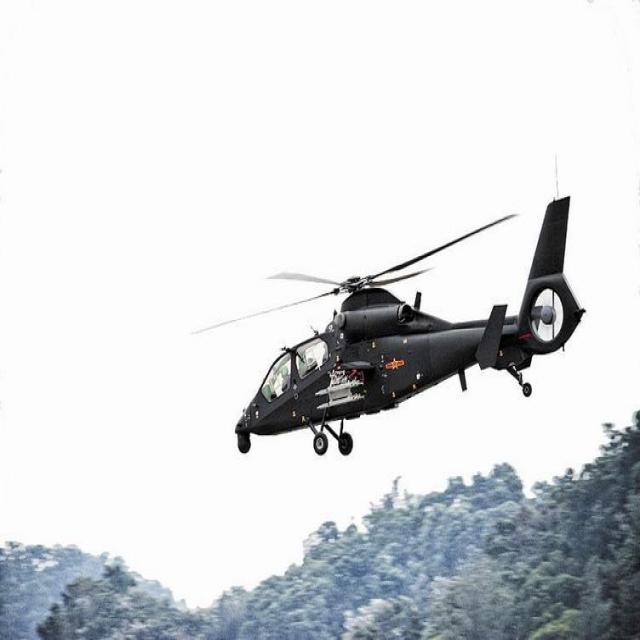MIL_HELO: (183, 194, 591, 465)
